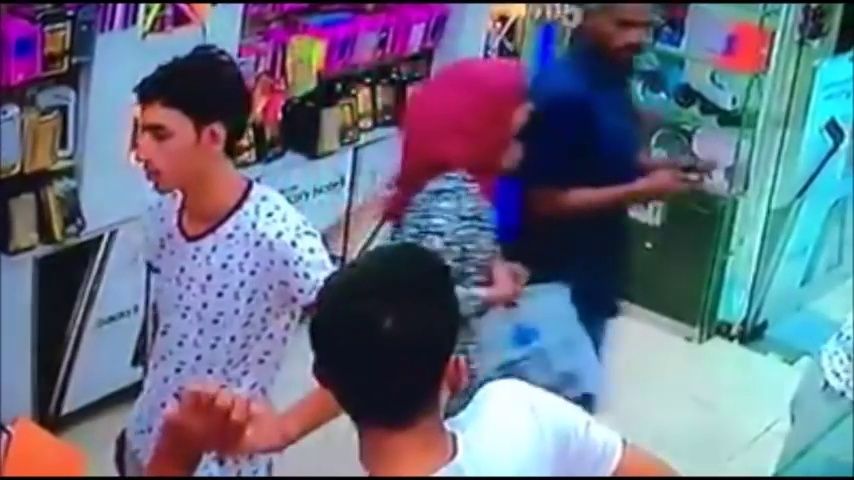face: (131, 103, 207, 191), (594, 3, 654, 60)
